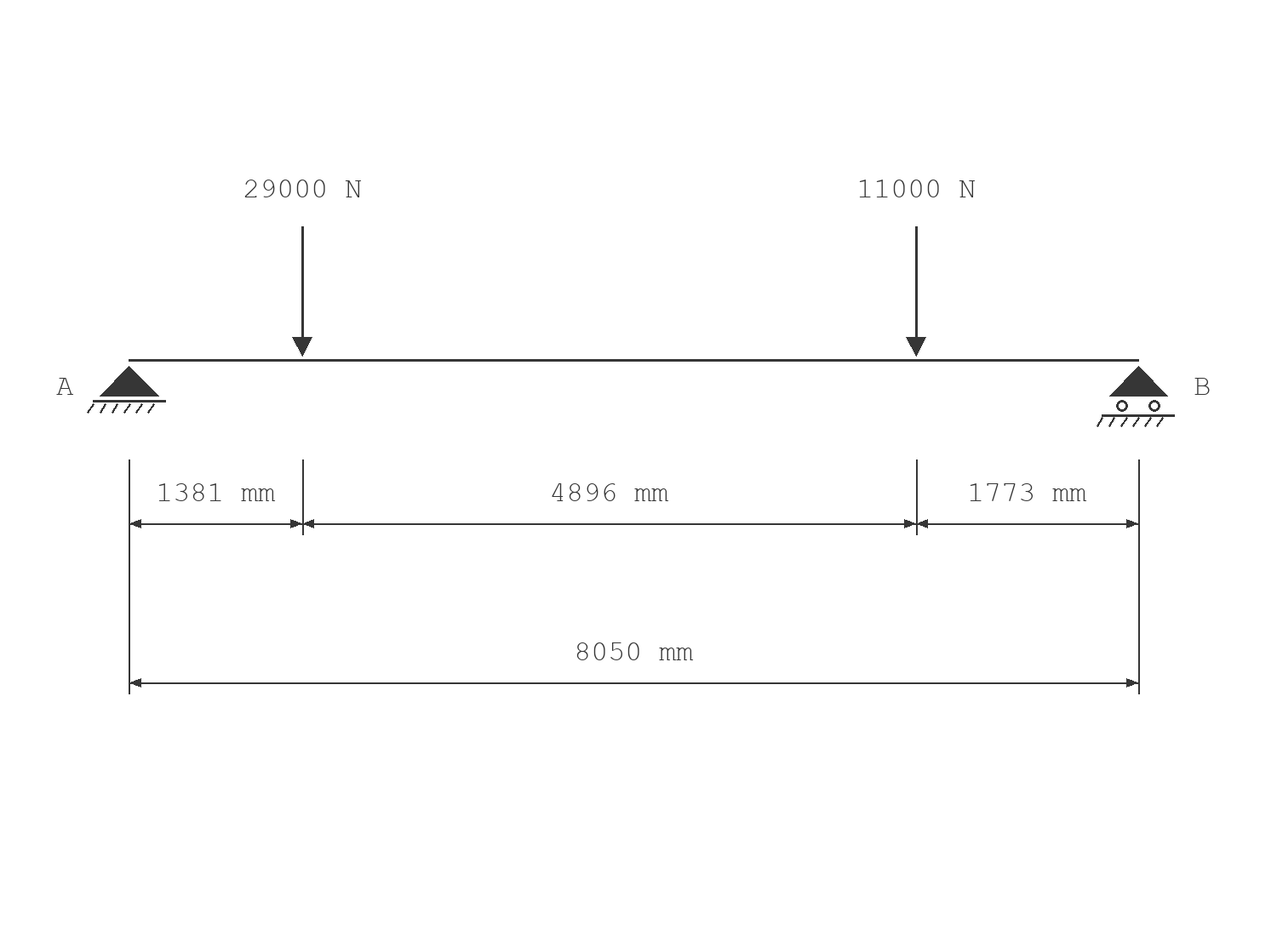pin_support: (87, 366, 166, 414)
point_load: (292, 226, 312, 357), (906, 226, 926, 357)
roller_support: (1097, 366, 1175, 427)
